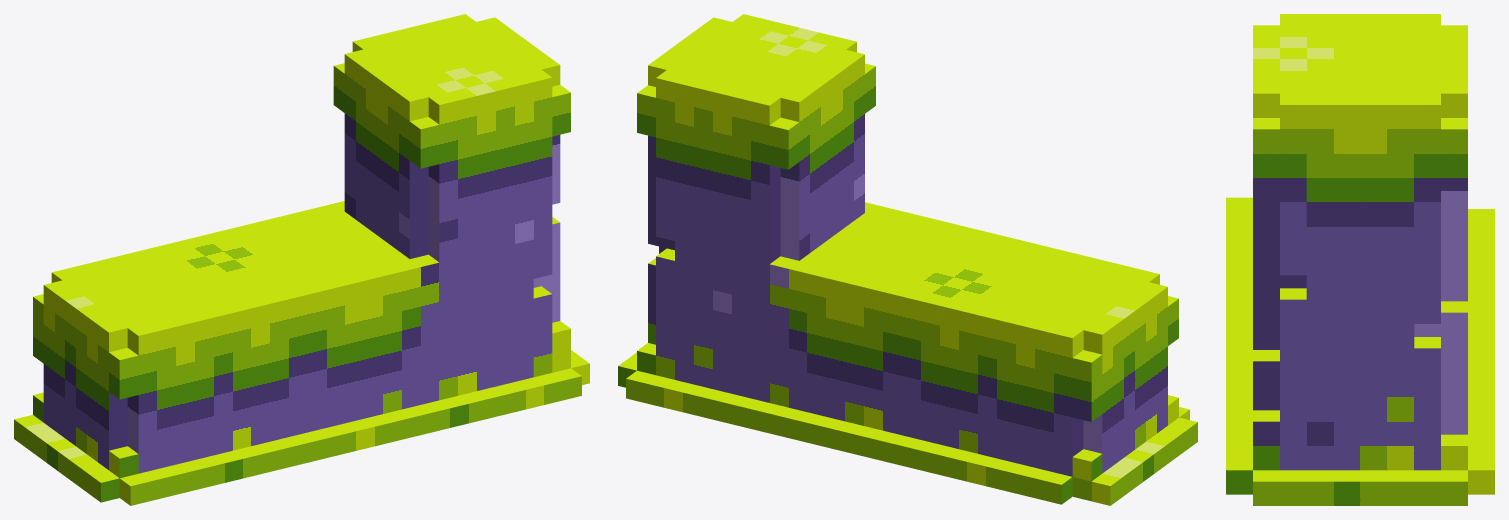
The model's file is zu_lao.fezao.glb.
The picture shows the model from 3 angles, left to right: view 1: azimuth 30°, elevation 25°; view 2: azimuth 150°, elevation 25°; view 3: azimuth 270°, elevation 25°; orthographic projection. The views are drawn at different scales.
Visible parts, largest first — view 1: ZU_LAO; view 2: ZU_LAO; view 3: ZU_LAO.
Part boxes in pixels (x1=…): ZU_LAO: x1=14, y1=14, x2=589, y2=505; ZU_LAO: x1=618, y1=14, x2=1197, y2=505; ZU_LAO: x1=1226, y1=14, x2=1494, y2=505.
Size of the model in its own units: 1.62 by 1 by 0.625.
Materials: 1 (1 with a texture image).
